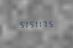five: (17, 20, 21, 28), (27, 20, 31, 28), (47, 19, 51, 27)
one: (22, 20, 26, 28), (37, 19, 41, 27), (32, 20, 36, 27)
seven: (42, 19, 46, 27)
